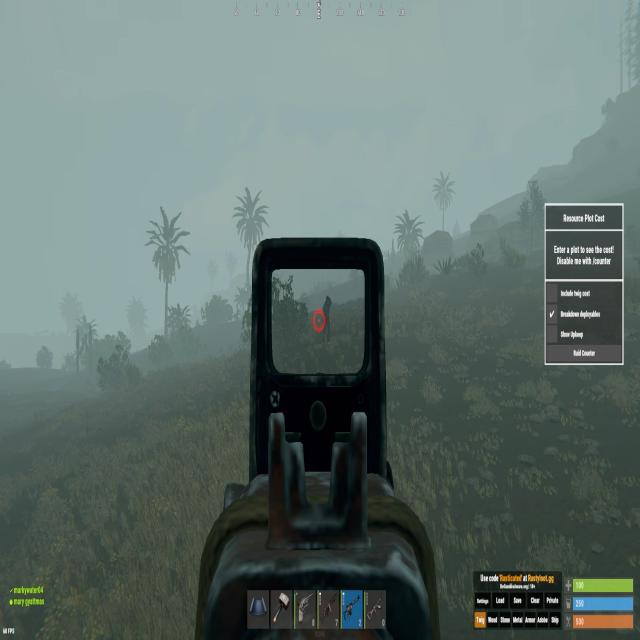Player: (322, 293, 332, 347)
